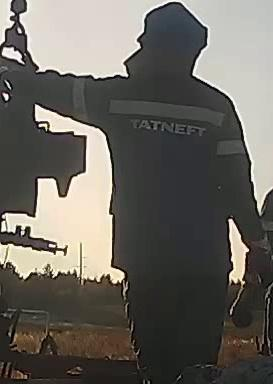gloves: (245, 231, 273, 288)
vest: (100, 70, 254, 268)
